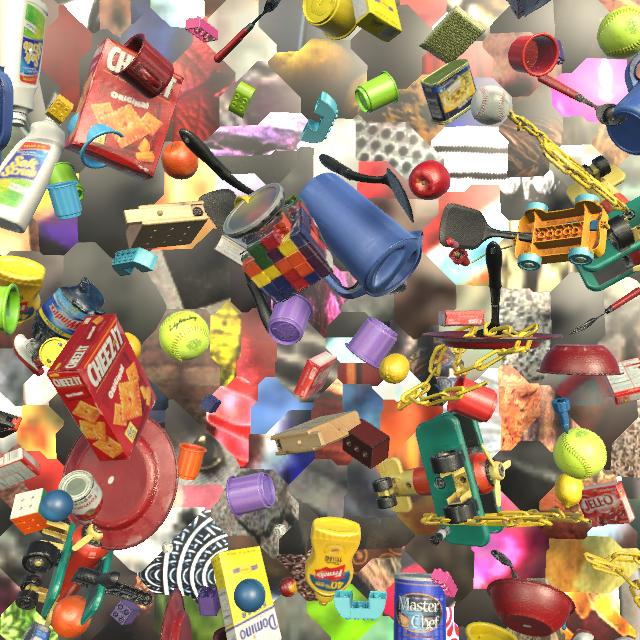ycb_002_master_chef_can: (393, 572, 446, 640)
ycb_003_cracker_box: (64, 38, 184, 181), (46, 314, 156, 461)
ycb_004_sugar_box: (210, 546, 282, 640), (351, 0, 402, 42)
ycb_005_tomato_soup_can: (58, 470, 103, 527)
ycb_006_mustard_bottle: (305, 517, 361, 606), (0, 256, 46, 327)
ycb_007_tuna_fish_can: (21, 621, 51, 640), (386, 280, 407, 295)
ycb_008_pudding_box: (214, 234, 248, 267)
ycb_009_gelatin_box: (579, 481, 636, 528), (293, 351, 337, 400), (603, 357, 640, 405), (0, 447, 41, 490), (438, 310, 485, 327)
ycb_010_potted_meat_can: (421, 59, 477, 125)
ycb_013_apple: (408, 160, 451, 200)
ycb_014_lemon: (554, 473, 584, 508), (379, 353, 410, 384)
ycb_015_peach: (124, 332, 142, 359)
ycb_017_orange: (51, 595, 92, 638), (161, 141, 199, 180)
